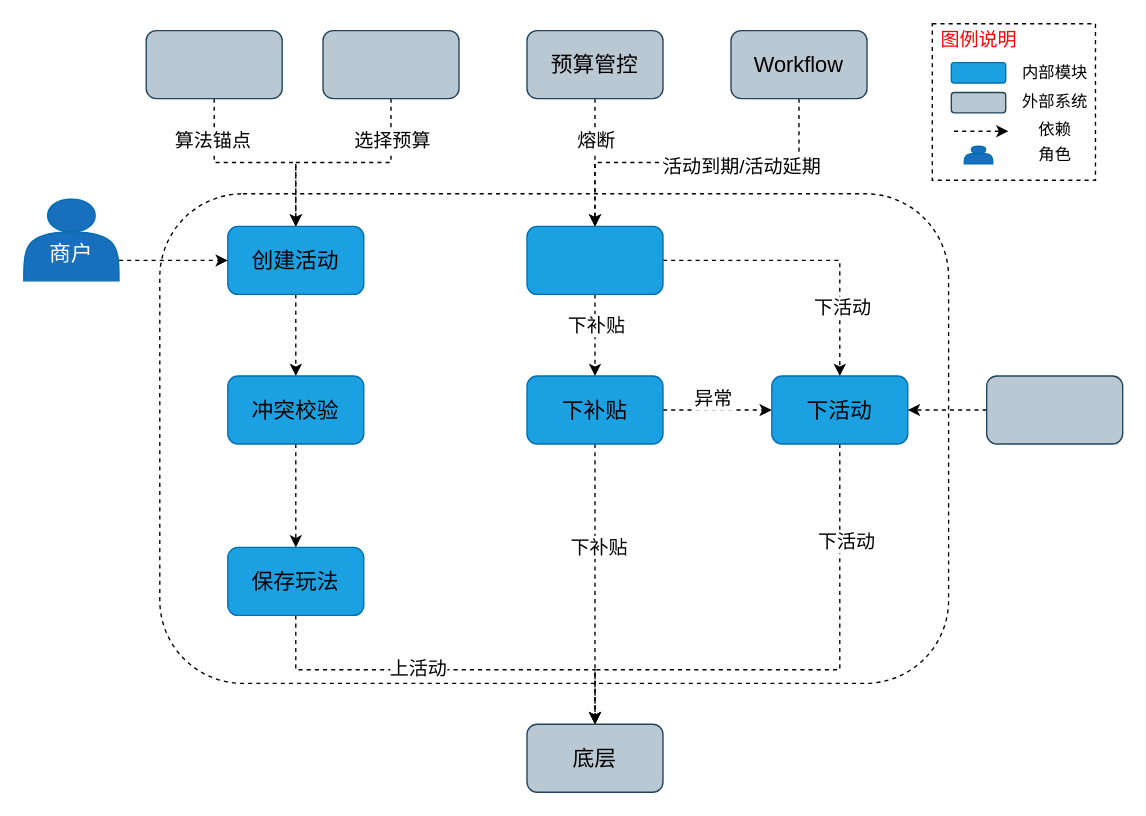
Some shapes in this 1146 by 816 pixel diagram are drawn without their labels. Here are the shapes that lost their labels. From the top down, the centre of each, then its label:
At (213,64): "B端算法".
At (390,64): "预算池".
At (594,259): "调度服务".
At (1054,409): "底层DRC".
